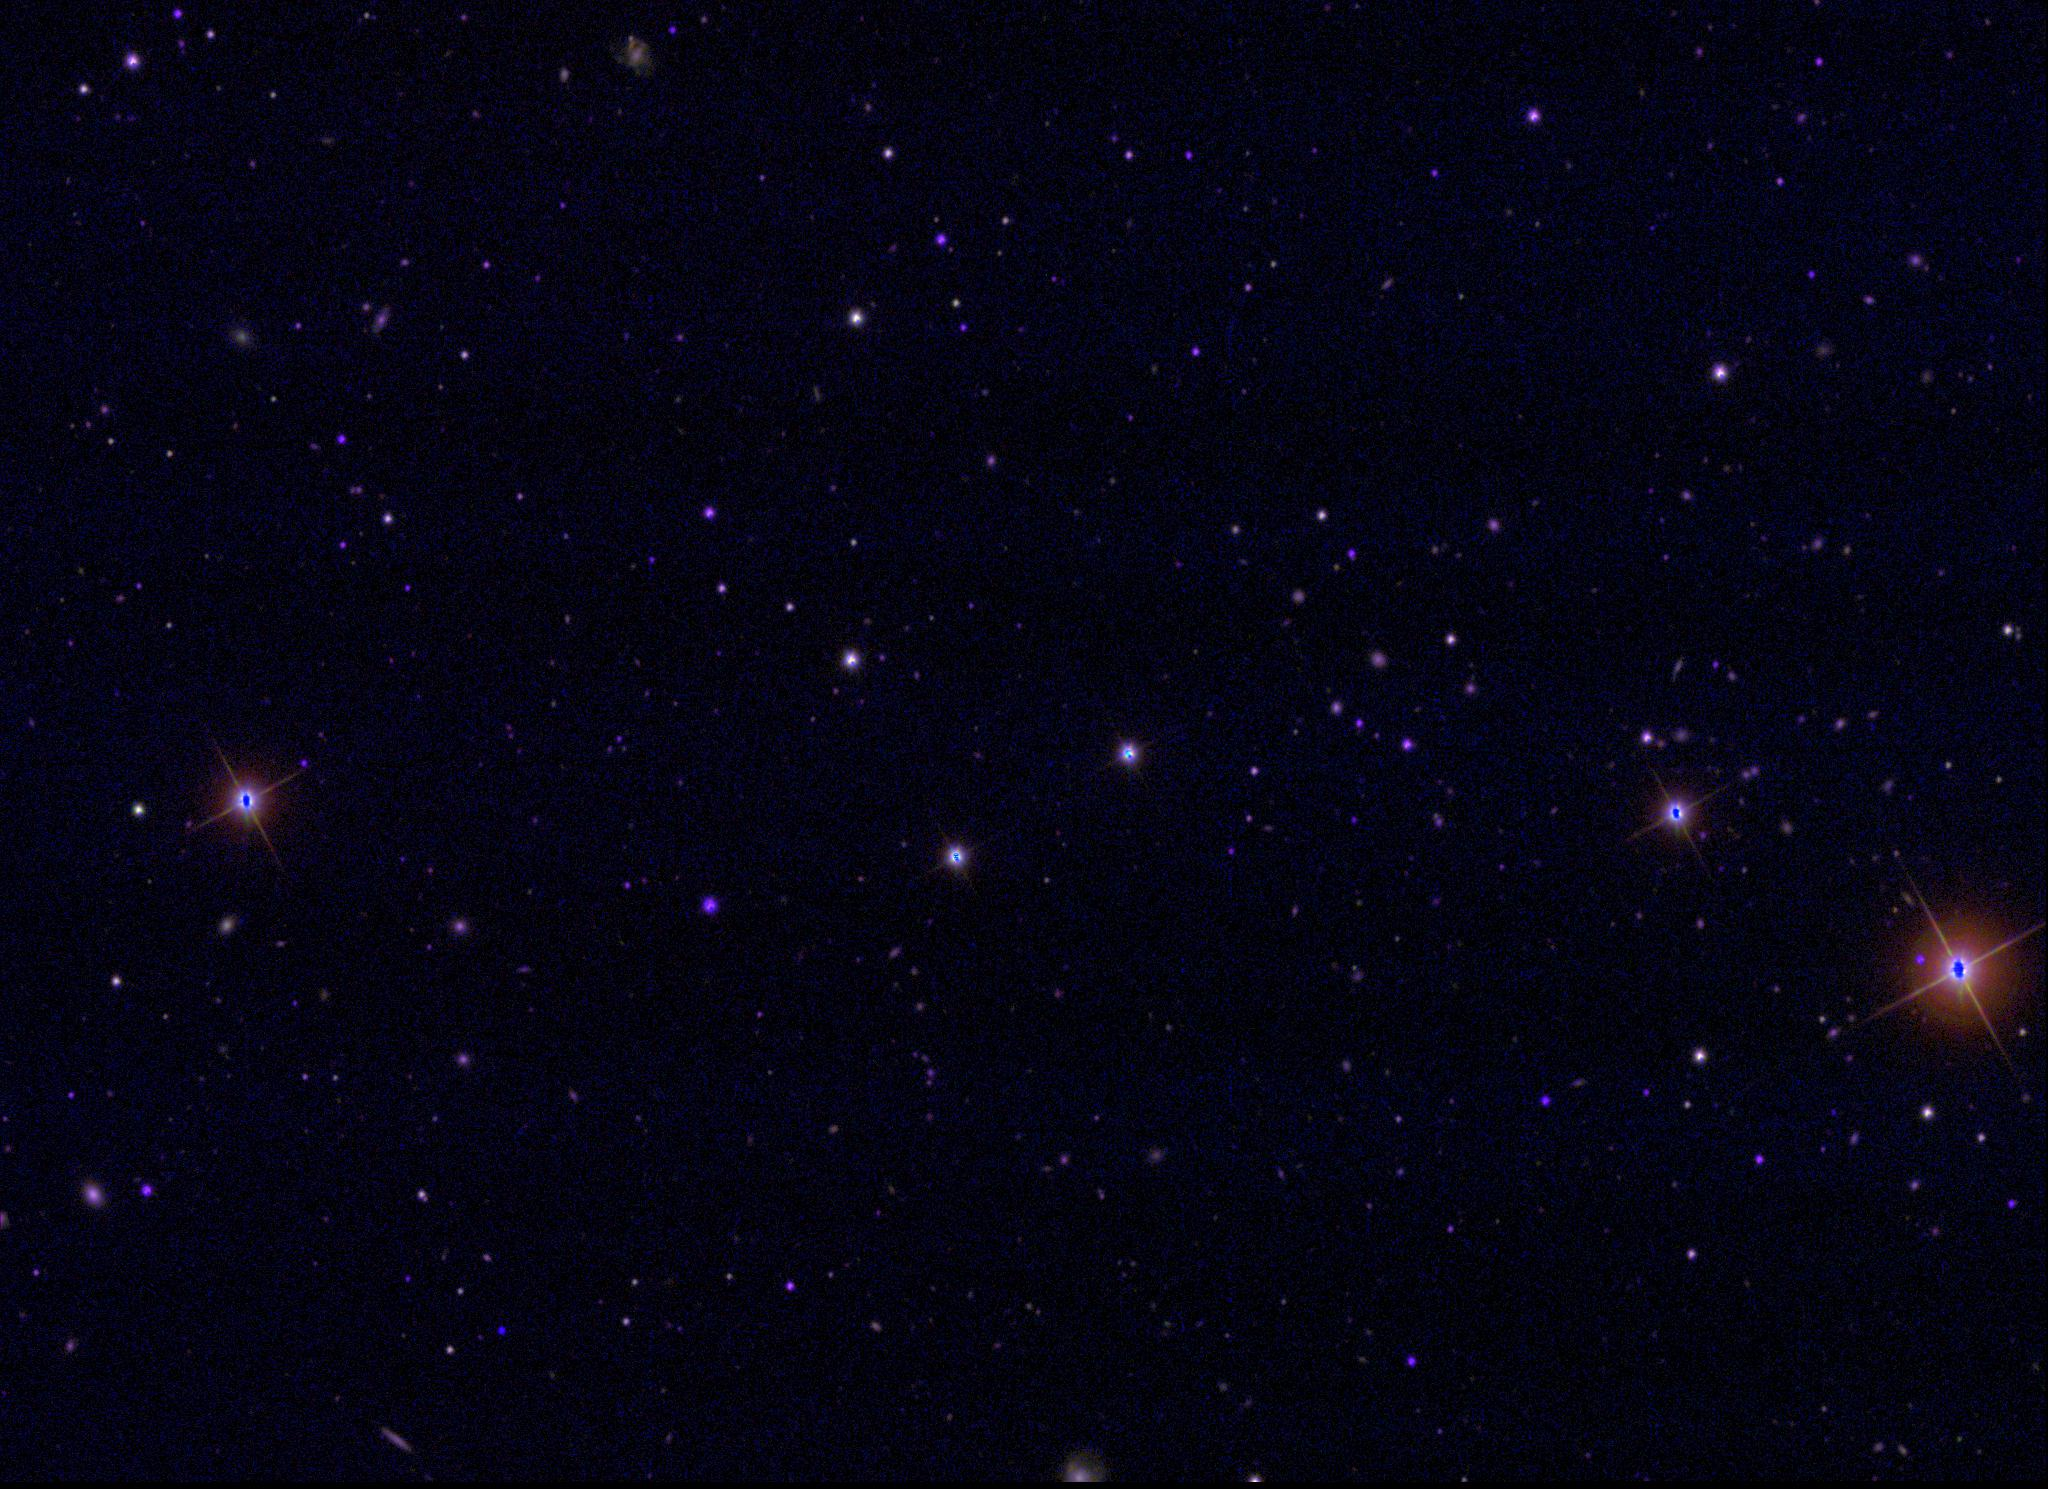L: (495, 1322, 507, 1336)
